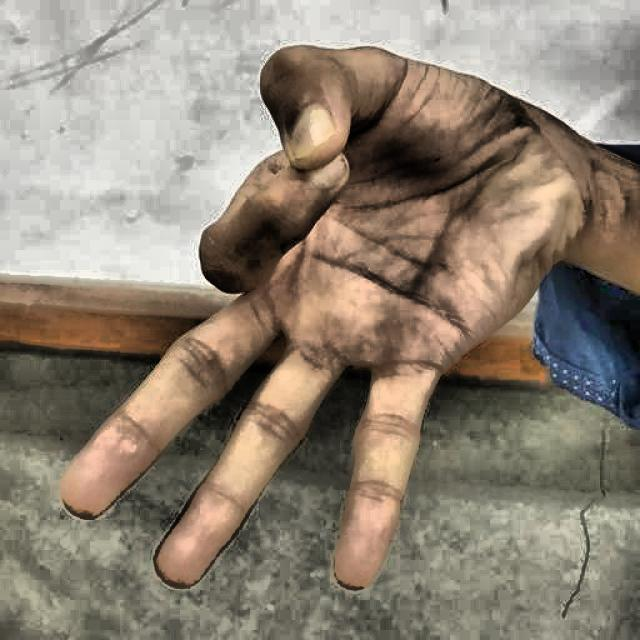Fa: (45, 29, 589, 619)
